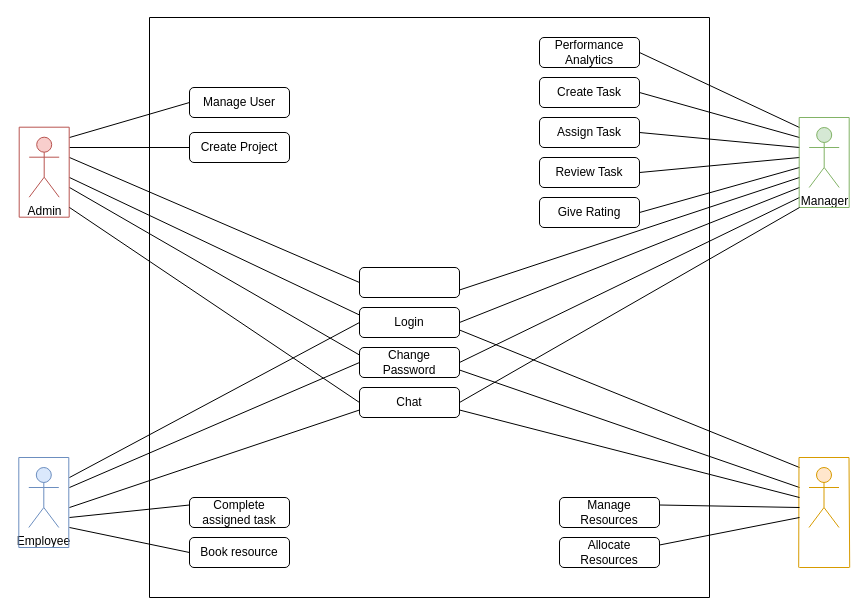
The diagram is 868 pixels wide and 616 high, and some of its shapes have lost their labels. Each missing label, with the centre of its shape:
"Resource Manager" belongs at pixel 823 497.
"Track budget" belongs at pixel 409 282.
